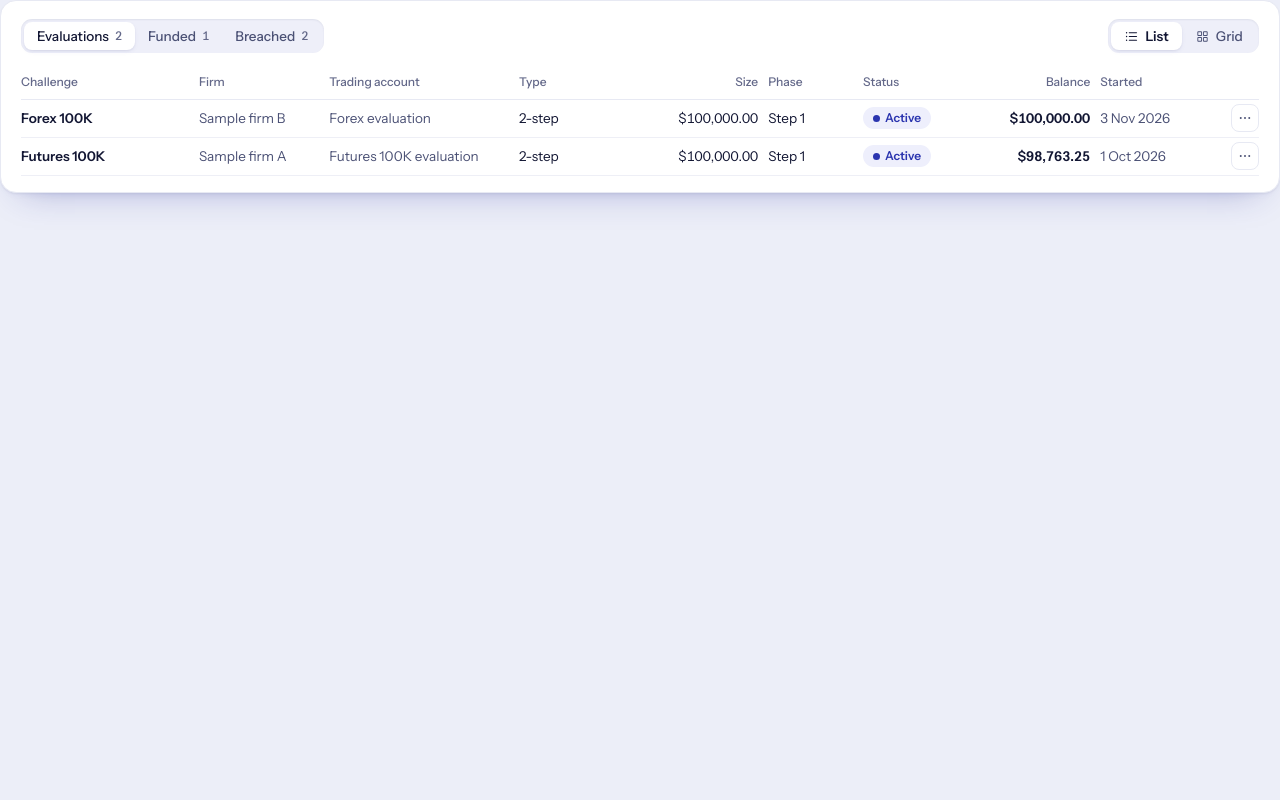
Move to funded asks first; Cancel leaves the challenge as it was
The image size is (1280, 800).
Press Enter in the button named "Actions for Futures 100K", box top-left (1231, 142), bottom-right (1259, 170)
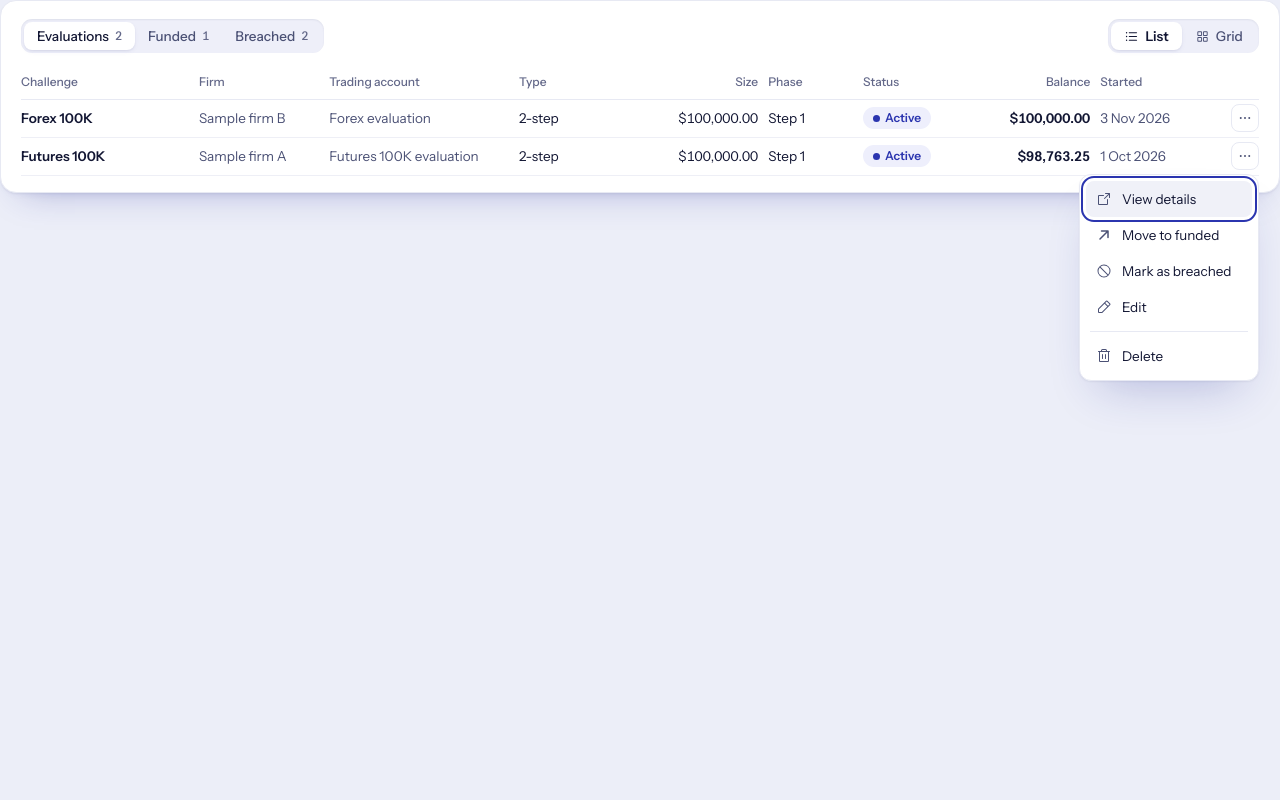
Click the menu item "Move to funded" at (1158, 235), box top-left (1096, 227), bottom-right (1219, 243)
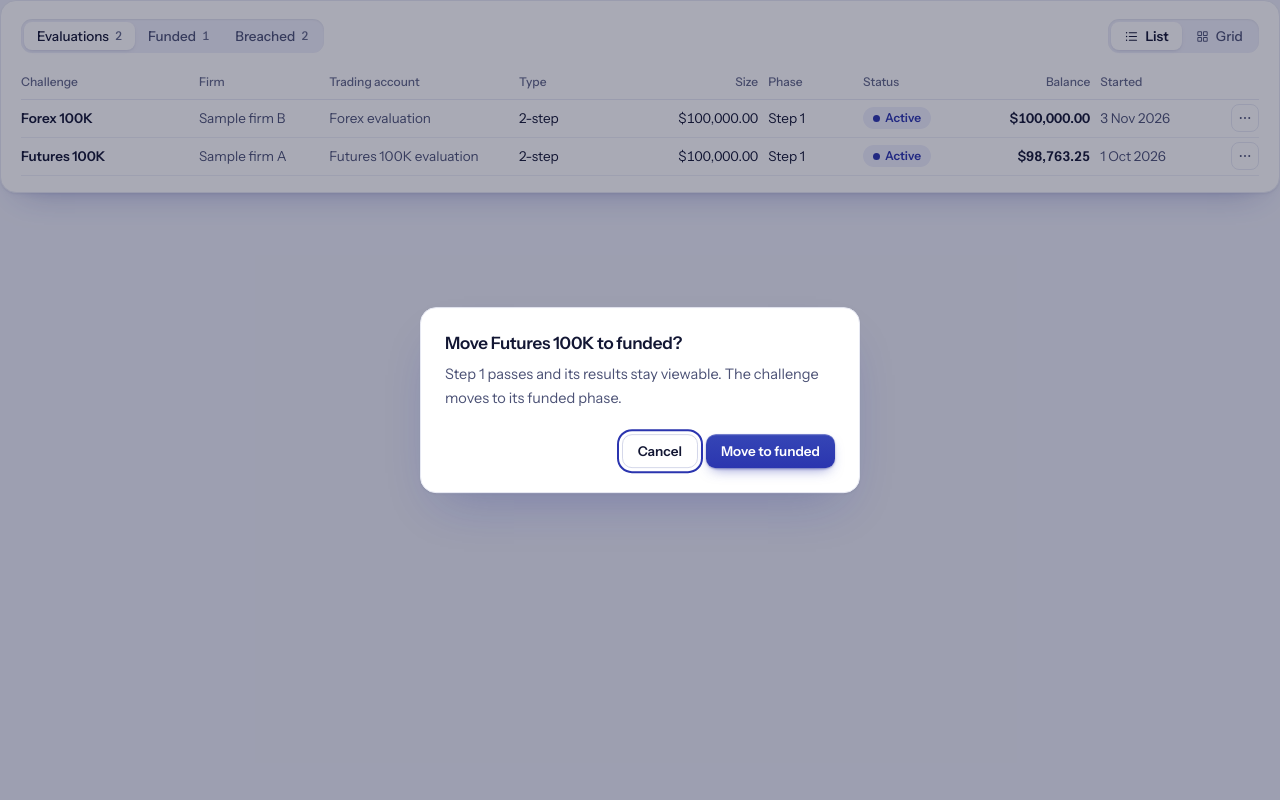
Check: the dialog "Move Futures 100K to funded?" shows "its results stay viewable", box top-left (445, 366), bottom-right (819, 407)
Click the button "Cancel" at (660, 451), box top-left (622, 434), bottom-right (698, 468)
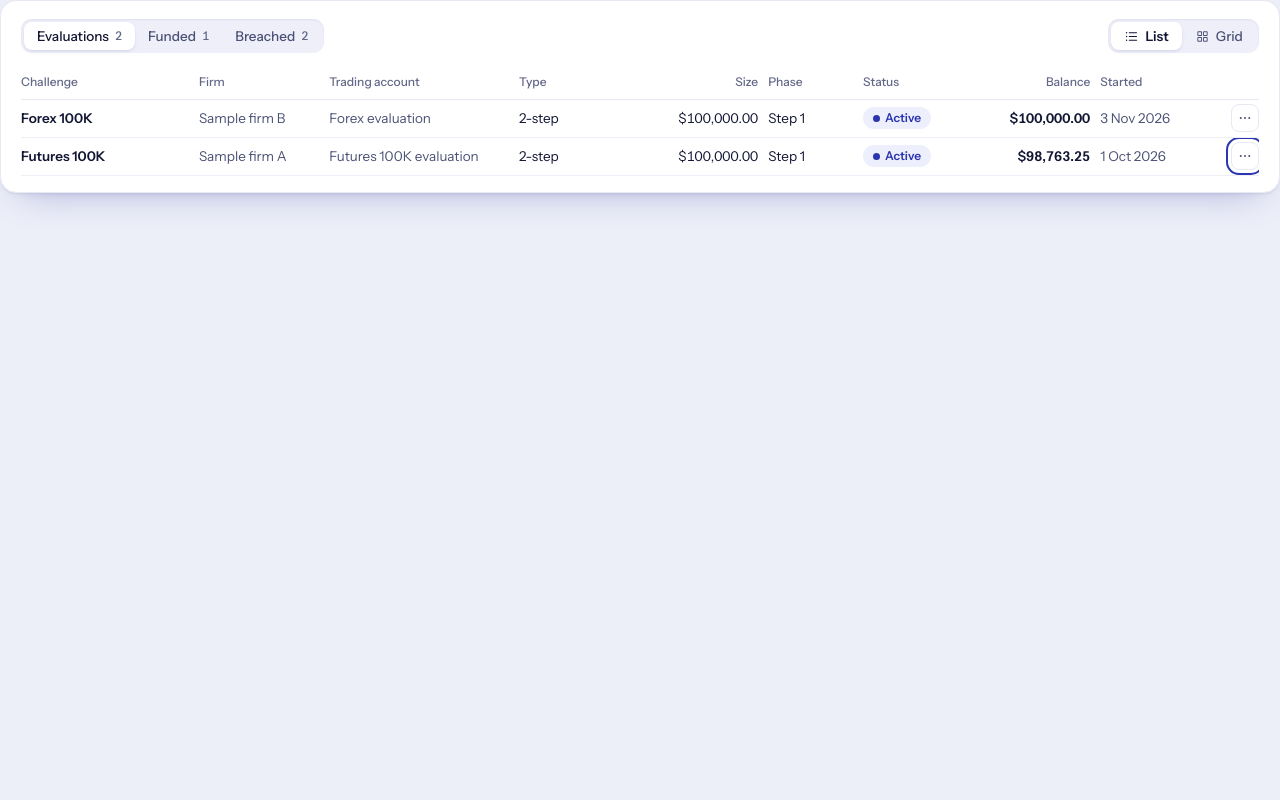
Check: the dialog is gone
